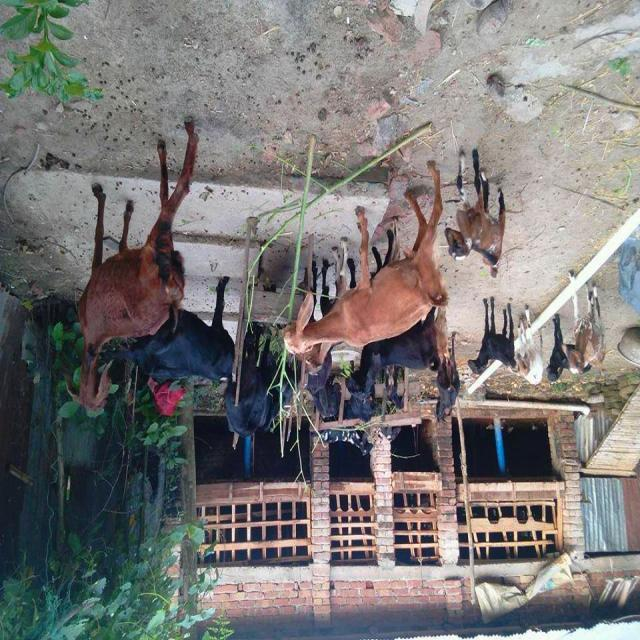Goat: (65, 120, 200, 412), (283, 161, 450, 367), (117, 276, 237, 384), (445, 149, 507, 279), (562, 270, 607, 376), (468, 297, 519, 377), (514, 305, 545, 387), (435, 332, 461, 425)
